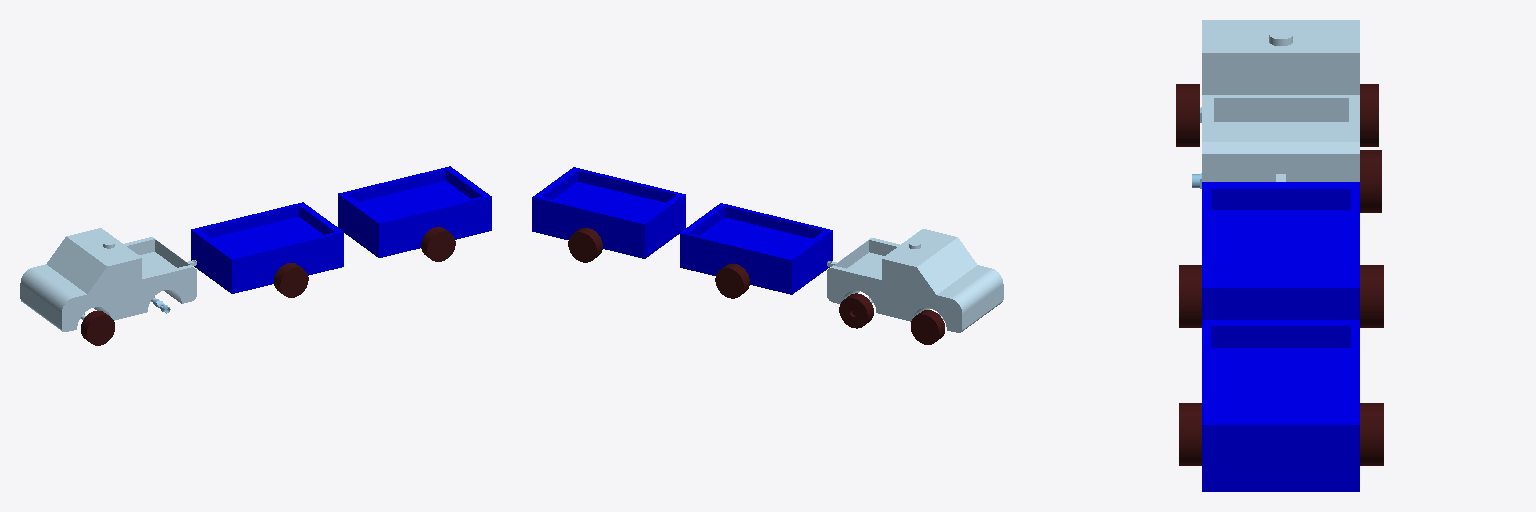
--- What the picture shows (computed from the rendered views, not written in the file) ---
The picture shows the robot from 3 angles, left to right: view 1: azimuth 30°, elevation 25°; view 2: azimuth 150°, elevation 25°; view 3: azimuth 270°, elevation 25°; orthographic projection.
Robot: my_robot — 12 links, 11 joints (2 revolute, 4 continuous, 5 fixed); root link car; default pose: every joint at zero.
Links seen in each view (by area): view 1: car, trailer_2_2, trailer_2, wheel_1; view 2: car, trailer_2_2, trailer_2, wheel_2_2, wheel_2; view 3: trailer_2_2, car, trailer_2, wheel_1, wheel_2_2, wheel_2.
Link boxes in pixels (x1,y1,x2,y2): car: [20, 228, 196, 331]; trailer_2_2: [338, 166, 491, 261]; trailer_2: [191, 202, 343, 297]; wheel_1: [81, 311, 114, 345]; car: [827, 229, 1003, 332]; trailer_2_2: [532, 167, 685, 262]; trailer_2: [680, 203, 832, 298]; wheel_2_2: [839, 293, 873, 328]; wheel_2: [911, 310, 944, 344]; trailer_2_2: [1179, 320, 1383, 491]; car: [1202, 20, 1359, 181]; trailer_2: [1179, 182, 1383, 327]; wheel_1: [1176, 84, 1199, 146]; wheel_2_2: [1360, 150, 1381, 212]; wheel_2: [1360, 84, 1378, 146].
Size in the robot's own frame: 3.06 by 0.6685 by 0.5055 metres.
18 mesh visuals loaded from 8 distinct referenced files (6 binary STL); not drawn: 6 (reference not matched to a file when rendering).

robot.urdf — my_robot:
<?xml version="1.0"?>
<!-- Generated using onshape-to-robot -->
<robot name="my_robot">
    <!-- Link car -->
    <ros2_control name="my_robot" type="system">
        <hardware>
            <plugin>mock_components/GenericSystem</plugin>
            <param name="calculate_dynamics">true</param>
            <!-- <plugin>ros2_control_demo_example_11/CarlikeBotSystemHardware</plugin>
            <param name="example_param_hw_start_duration_sec">0</param>
            <param name="example_param_hw_stop_duration_sec">3.0</param> -->
        </hardware>
        <joint name="wheel_1_turn">
            <command_interface name="position" />
            <state_interface name="position" />
        </joint>
        <joint name="wheel_3_rotate">
            <command_interface name="velocity" />
            <state_interface name="velocity" />
            <state_interface name="position" />
        </joint>
    </ros2_control>


    <link name="car">
        <inertial>
            <origin xyz="0.051002 0.170353 0.124678" rpy="0 0 0" />
            <mass value="272.473" />
            <inertia ixx="8.5094" ixy="-8.69938e-08" ixz="0.684742" iyy="18.5356" iyz="6.07751e-08"
                izz="22.0273" />
        </inertial>
        <!-- Part car -->
        <visual>
            <origin xyz="0.0955096 0.170353 0.07044" rpy="0 -0 0" />
            <geometry>
                <mesh filename="package://project1_description/urdf/assets/car.stl" />
            </geometry>
            <material name="car_material">
                <color rgba="0.768627 0.886275 0.952941 1" />
            </material>
        </visual>
        <collision>
            <origin xyz="0.0955096 0.170353 0.07044" rpy="0 -0 0" />
            <geometry>
                <mesh filename="package://project1_description/urdf/assets/car.stl" />
            </geometry>
        </collision>
    </link>
    
    <!-- Link assembly_1 -->
    <link name="assembly_1">
        <inertial>
            <origin xyz="3.32289e-08 -8.11315e-06 -0.0421529" rpy="0 0 0" />
            <mass value="0.290111" />
            <inertia ixx="0.000460233" ixy="3.7401e-14" ixz="-1.28315e-13" iyy="0.000478564"
                iyz="-3.62703e-07" izz="7.86407e-05" />
        </inertial>
        <!-- Part uc_2 -->
        <visual>
            <origin xyz="-2.22045e-16 -1.38778e-16 0.0172947" rpy="-1.5708 4.996e-16 2.5189e-18" />
            <geometry>
                <mesh filename="package://project1_description/urdf/assets/uc_2.stl" />
            </geometry>
            <material name="uc_2_material">
                <color rgba="0.615686 0.811765 0.929412 1" />
            </material>
        </visual>
        <collision>
            <origin xyz="-2.22045e-16 -1.38778e-16 0.0172947" rpy="-1.5708 4.996e-16 2.5189e-18" />
            <geometry>
                <mesh filename="package://project1_description/urdf/assets/uc_2.stl" />
            </geometry>
        </collision>
        <!-- Part uc_1 -->
        <visual>
            <origin xyz="0 0 0" rpy="-1.5708 2.29033e-62 0" />
            <geometry>
                <mesh filename="package://project1_description/urdf/assets/uc_1.stl" />
            </geometry>
            <material name="uc_1_material">
                <color rgba="0.615686 0.811765 0.929412 1" />
            </material>
        </visual>
        <collision>
            <origin xyz="0 0 0" rpy="-1.5708 2.29033e-62 0" />
            <geometry>
                <mesh filename="package://project1_description/urdf/assets/uc_1.stl" />
            </geometry>
        </collision>
    </link>
    <!-- Link wheel_1 -->
    <link name="wheel_1">
        <inertial>
            <origin xyz="0 1.38778e-17 -0.0136924" rpy="0 0 0" />
            <mass value="2.073" />
            <inertia ixx="0.00644579" ixy="0" ixz="8.02507e-36" iyy="0.00644579" iyz="0"
                izz="0.0109084" />
        </inertial>
        <!-- Part wheel_1 -->
        <visual>
            <origin xyz="0.25068 -0.109 0.2028" rpy="1.5708 -4.62429e-34 0" />
            <geometry>
                <mesh filename="package://project1_description/urdf/assets/wheel_1.stl" />
            </geometry>
            <material name="wheel_1_material">
                <color rgba="0.286275 0.113725 0.113725 1" />
            </material>
        </visual>
        <collision>
            <origin xyz="0.25068 -0.109 0.2028" rpy="1.5708 -4.62429e-34 0" />
            <geometry>
                <mesh filename="package://project1_description/urdf/assets/wheel_1.stl" />
            </geometry>
        </collision>
    </link>
    <!-- Joint from assembly_1 to wheel_1 -->
    <joint name="wheel_1_rotate" type="continuous">
        <origin xyz="-2.77556e-16 -2.39858e-05 -0.109279" rpy="-1.83584e-16 -4.996e-16 -3.14159" />
        <parent link="assembly_1" />
        <child link="wheel_1" />
        <axis xyz="0 0 -1" />
        <limit effort="10" velocity="10" />
        <mimic joint="wheel_3_rotate" multiplier="1.0" offset="0.0" />
    </joint>
    <!-- Joint from car to assembly_1 -->
    <joint name="wheel_1_turn" type="revolute">
        <origin xyz="-0.155171 -0.00744729 -0.03856" rpy="1.5708 3.0969e-31 3.14159" />
        <parent link="car" />
        <child link="assembly_1" />
        <axis xyz="0 1 0" />
        <limit effort="10" velocity="10" lower="-0.5" upper="0.5" />
    </joint>
    <!-- Link assembly_1_2 -->
    <link name="assembly_1_2">
        <inertial>
            <origin xyz="3.32289e-08 -1.58726e-05 -0.0421263" rpy="0 0 0" />
            <mass value="0.290111" />
            <inertia ixx="0.000460233" ixy="-3.7401e-14" ixz="1.28313e-13" iyy="0.000478564"
                iyz="-3.62703e-07" izz="7.86407e-05" />
        </inertial>
        <!-- Part uc_2_2 -->
        <visual>
            <origin xyz="0 -2.39858e-05 -0.101574" rpy="1.5708 -9.47567e-61 0" />
            <geometry>
                <mesh filename="package://project1_description/urdf/assets/uc_2.stl" />
            </geometry>
            <material name="uc_2_2_material">
                <color rgba="0.615686 0.811765 0.929412 1" />
            </material>
        </visual>
        <collision>
            <origin xyz="0 -2.39858e-05 -0.101574" rpy="1.5708 -9.47567e-61 0" />
            <geometry>
                <mesh filename="package://project1_description/urdf/assets/uc_2.stl" />
            </geometry>
        </collision>
        <!-- Part uc_1_2 -->
        <visual>
            <origin xyz="0 -2.39858e-05 -0.0842792" rpy="1.5708 -6.10623e-16 -2.5189e-18" />
            <geometry>
                <mesh filename="package://project1_description/urdf/assets/uc_1.stl" />
            </geometry>
            <material name="uc_1_2_material">
                <color rgba="0.615686 0.811765 0.929412 1" />
            </material>
        </visual>
        <collision>
            <origin xyz="0 -2.39858e-05 -0.0842792" rpy="1.5708 -6.10623e-16 -2.5189e-18" />
            <geometry>
                <mesh filename="package://project1_description/urdf/assets/uc_1.stl" />
            </geometry>
        </collision>
    </link>
    <!-- Link wheel_2 -->
    <link name="wheel_2">
        <inertial>
            <origin xyz="0 -1.38778e-17 -0.0136924" rpy="0 0 0" />
            <mass value="2.073" />
            <inertia ixx="0.00644579" ixy="0" ixz="4.24661e-36" iyy="0.00644579" iyz="0"
                izz="0.0109084" />
        </inertial>
        <!-- Part wheel_2 -->
        <visual>
            <origin xyz="0.25068 0.109 0.2028" rpy="-1.5708 -2.44702e-34 0" />
            <geometry>
                <mesh filename="package://project1_description/urdf/assets/wheel_2.stl" />
            </geometry>
            <material name="wheel_2_material">
                <color rgba="0.286275 0.113725 0.113725 1" />
            </material>
        </visual>
        <collision>
            <origin xyz="0.25068 0.109 0.2028" rpy="-1.5708 -2.44702e-34 0" />
            <geometry>
                <mesh filename="package://project1_description/urdf/assets/wheel_2.stl" />
            </geometry>
        </collision>
    </link>
    <!-- Joint from assembly_1_2 to wheel_2 -->
    <joint name="wheel_2_rotate" type="continuous">
        <origin xyz="0 -2.39858e-05 -0.0842792" rpy="9.71466e-17 6.10623e-16 3.14159" />
        <parent link="assembly_1_2" />
        <child link="wheel_2" />
        <axis xyz="0 0 1" />
        <limit effort="10" velocity="10" />
        <mimic joint="wheel_3_rotate" multiplier="1.0" offset="0.0" />
    </joint>
    <!-- Joint from car to assembly_1_2 -->
    <joint name="wheel_2_turn" type="revolute">
        <origin xyz="-0.155171 0.348153 -0.03856" rpy="-1.5708 2.16552e-30 -3.14159" />
        <parent link="car" />
        <child link="assembly_1_2" />
        <axis xyz="0 -1 0" />
        <limit effort="10" velocity="10" lower="-0.5" upper="0.5" />
        <mimic joint="wheel_1_turn" multiplier="1.0" offset="0.0" />
    </joint>
    <!-- Link assembly_1_3 -->
    <link name="assembly_1_3">
        <inertial>
            <origin xyz="3.32289e-08 -1.58726e-05 -0.0421263" rpy="0 0 0" />
            <mass value="0.290111" />
            <inertia ixx="0.000460233" ixy="-3.7401e-14" ixz="1.28313e-13" iyy="0.000478564"
                iyz="-3.62703e-07" izz="7.86407e-05" />
        </inertial>
        <!-- Part uc_2_3 -->
        <visual>
            <origin xyz="0 -2.39858e-05 -0.101574" rpy="1.5708 -9.47567e-61 0" />
            <geometry>
                <mesh filename="package://project1_description/urdf/assets/uc_2.stl" />
            </geometry>
            <material name="uc_2_3_material">
                <color rgba="0.615686 0.811765 0.929412 1" />
            </material>
        </visual>
        <collision>
            <origin xyz="0 -2.39858e-05 -0.101574" rpy="1.5708 -9.47567e-61 0" />
            <geometry>
                <mesh filename="package://project1_description/urdf/assets/uc_2.stl" />
            </geometry>
        </collision>
        <!-- Part uc_1_3 -->
        <visual>
            <origin xyz="0 -2.39858e-05 -0.0842792" rpy="1.5708 -6.10623e-16 -2.5189e-18" />
            <geometry>
                <mesh filename="package://project1_description/urdf/assets/uc_1.stl" />
            </geometry>
            <material name="uc_1_3_material">
                <color rgba="0.615686 0.811765 0.929412 1" />
            </material>
        </visual>
        <collision>
            <origin xyz="0 -2.39858e-05 -0.0842792" rpy="1.5708 -6.10623e-16 -2.5189e-18" />
            <geometry>
                <mesh filename="package://project1_description/urdf/assets/uc_1.stl" />
            </geometry>
        </collision>
    </link>
    <!-- Link wheel_2_2 -->
    <link name="wheel_2_2">
        <inertial>
            <origin xyz="5.55112e-17 4.16334e-17 0.000592428" rpy="0 0 0" />
            <mass value="2.073" />
            <inertia ixx="0.00644579" ixy="0" ixz="-2.67173e-36" iyy="0.00644579" iyz="0"
                izz="0.0109084" />
        </inertial>
        <!-- Part wheel_2_2 -->
        <visual>
            <origin xyz="0.25068 -0.109 -0.2159" rpy="1.5708 1.53953e-34 0" />
            <geometry>
                <mesh filename="package://project1_description/urdf/assets/wheel_2.stl" />
            </geometry>
            <material name="wheel_2_2_material">
                <color rgba="0.286275 0.113725 0.113725 1" />
            </material>
        </visual>
        <collision>
            <origin xyz="0.25068 -0.109 -0.2159" rpy="1.5708 1.53953e-34 0" />
            <geometry>
                <mesh filename="package://project1_description/urdf/assets/wheel_2.stl" />
            </geometry>
        </collision>
    </link>
    <!-- Joint from assembly_1_3 to wheel_2_2 -->
    <joint name="wheel_3_rotate" type="continuous">
        <origin xyz="0 -2.39858e-05 -0.109279" rpy="-6.11193e-17 6.10623e-16 3.14159" />
        <parent link="assembly_1_3" />
        <child link="wheel_2_2" />
        <axis xyz="0 0 1" />
        <limit effort="10" velocity="10" />
    </joint>
    <!-- Joint from car to assembly_1_3 -->
    <joint name="wheel_3_turn" type="fixed">
        <origin xyz="0.34619 0.348153 -0.03856" rpy="-1.5708 2.16552e-30 -3.14159" />
        <parent link="car" />
        <child link="assembly_1_3" />
        <axis xyz="0 1 0" />
        <limit effort="10" velocity="10" />
    </joint>
    <!-- Link assembly_1_4 -->
    <link name="assembly_1_4">
        <inertial>
            <origin xyz="3.32289e-08 -8.11315e-06 -0.0421529" rpy="0 0 0" />
            <mass value="0.290111" />
            <inertia ixx="0.000460233" ixy="3.7401e-14" ixz="-1.28313e-13" iyy="0.000478564"
                iyz="-3.62703e-07" izz="7.86407e-05" />
        </inertial>
        <!-- Part uc_2_4 -->
        <visual>
            <origin xyz="5.55112e-17 0 0.0172947" rpy="-1.5708 6.66134e-16 2.5189e-18" />
            <geometry>
                <mesh filename="package://project1_description/urdf/assets/uc_2.stl" />
            </geometry>
            <material name="uc_2_4_material">
                <color rgba="0.615686 0.811765 0.929412 1" />
            </material>
        </visual>
        <collision>
            <origin xyz="5.55112e-17 0 0.0172947" rpy="-1.5708 6.66134e-16 2.5189e-18" />
            <geometry>
                <mesh filename="package://project1_description/urdf/assets/uc_2.stl" />
            </geometry>
        </collision>
        <!-- Part uc_1_4 -->
        <visual>
            <origin xyz="0 0 0" rpy="-1.5708 2.29033e-62 0" />
            <geometry>
                <mesh filename="package://project1_description/urdf/assets/uc_1.stl" />
            </geometry>
            <material name="uc_1_4_material">
                <color rgba="0.615686 0.811765 0.929412 1" />
            </material>
        </visual>
        <collision>
            <origin xyz="0 0 0" rpy="-1.5708 2.29033e-62 0" />
            <geometry>
                <mesh filename="package://project1_description/urdf/assets/uc_1.stl" />
            </geometry>
        </collision>
    </link>
    <!-- Link wheel -->
    <link name="wheel">
        <inertial>
            <origin xyz="5.55112e-17 -1.38778e-17 0.000592428" rpy="0 0 0" />
            <mass value="2.073" />
            <inertia ixx="0.00644579" ixy="1.24353e-67" ixz="8.02507e-36" iyy="0.00644579"
                iyz="4.27813e-34" izz="0.0109084" />
        </inertial>
        <!-- Part wheel -->
        <visual>
            <origin xyz="-0.25068 0.109 -0.2159" rpy="-1.5708 -4.62429e-34 0" />
            <geometry>
                <mesh filename="package://project1_description/urdf/assets/wheel.stl" />
            </geometry>
            <material name="wheel_material">
                <color rgba="0.266667 0.0941176 0.0941176 1" />
            </material>
        </visual>
        <collision>
            <origin xyz="-0.25068 0.109 -0.2159" rpy="-1.5708 -4.62429e-34 0" />
            <geometry>
                <mesh filename="package://project1_description/urdf/assets/wheel.stl" />
            </geometry>
        </collision>
    </link>
    <!-- Joint from assembly_1_4 to wheel -->
    <joint name="wheel_4_rotate" type="continuous">
        <origin xyz="0 -2.39858e-05 -0.109279" rpy="-1.83584e-16 -6.66134e-16 -3.14159" />
        <parent link="assembly_1_4" />
        <child link="wheel" />
        <axis xyz="0 0 -1" />
        <limit effort="10" velocity="10" />
        <mimic joint="wheel_3_rotate" multiplier="1.0" offset="0.0" />
    </joint>
    <!-- Joint from car to assembly_1_4 -->
    <joint name="wheel_4_turn" type="fixed">
        <origin xyz="0.34619 -0.00744729 -0.03856" rpy="1.5708 3.0969e-31 3.14159" />
        <parent link="car" />
        <child link="assembly_1_4" />
        <axis xyz="0 1 0" />
        <limit effort="10" velocity="10" />
    </joint>
    <!-- Link hook -->
    <link name="hook">
        <inertial>
            <origin xyz="1.74204e-13 -1.73472e-18 -0.0587536" rpy="0 0 0" />
            <mass value="0.714787" />
            <inertia ixx="0.000893832" ixy="0" ixz="1.25716e-15" iyy="0.000917062" iyz="0"
                izz="9.76867e-05" />
        </inertial>
        <!-- Part hook -->
        <visual>
            <origin xyz="-1.77636e-15 0.0125 0.4825" rpy="1.5708 1.5708 0" />
            <geometry>
                <mesh filename="package://project1_description/urdf/assets/hook.stl" />
            </geometry>
            <material name="hook_material">
                <color rgba="0.647059 0.647059 0.647059 1" />
            </material>
        </visual>
        <collision>
            <origin xyz="-1.77636e-15 0.0125 0.4825" rpy="1.5708 1.5708 0" />
            <geometry>
                <mesh filename="package://project1_description/urdf/assets/hook.stl" />
            </geometry>
        </collision>
    </link>
    <!-- Link trailer_2 -->
    <link name="trailer_2">
        <inertial>
            <origin xyz="-0.523312 -6.52477e-13 -0.0407031" rpy="0 0 0" />
            <mass value="198.322" />
            <inertia ixx="5.44973" ixy="-9.53232e-14" ixz="0.00819777" iyy="11.9939"
                iyz="-5.47601e-15" izz="16.1639" />
        </inertial>
        <!-- Part trailer -->
        <visual>
            <origin xyz="-0.123312 -0.254 -0.055" rpy="4.05925e-16 3.9443e-31 3.14159" />
            <geometry>
                <mesh filename="package://project1_description/urdf/assets/trailer.stl" />
            </geometry>
            <material name="trailer_material">
                <color rgba="0 0 1 1" />
            </material>
        </visual>
        <collision>
            <origin xyz="-0.123312 -0.254 -0.055" rpy="4.05925e-16 3.9443e-31 3.14159" />
            <geometry>
                <mesh filename="package://project1_description/urdf/assets/trailer.stl" />
            </geometry>
        </collision>
        <!-- Part wheel_2_3 -->
        <visual>
            <origin xyz="-0.773992 0.0762 -0.222181" rpy="-3.14159 -3.8719e-15 3.14159" />
            <geometry>
                <mesh filename="package://project1_description/urdf/assets/wheel_2.stl" />
            </geometry>
            <material name="wheel_2_3_material">
                <color rgba="0.286275 0.113725 0.113725 1" />
            </material>
        </visual>
        <collision>
            <origin xyz="-0.773992 0.0762 -0.222181" rpy="-3.14159 -3.8719e-15 3.14159" />
            <geometry>
                <mesh filename="package://project1_description/urdf/assets/wheel_2.stl" />
            </geometry>
        </collision>
        <!-- Part hook_2 -->
        <visual>
            <origin xyz="-0.605812 -6.54199e-13 -0.025" rpy="0 -0 1.82017e-32" />
            <geometry>
                <mesh filename="package://project1_description/urdf/assets/hook.stl" />
            </geometry>
            <material name="hook_2_material">
                <color rgba="0.647059 0.647059 0.647059 1" />
            </material>
        </visual>
        <collision>
            <origin xyz="-0.605812 -6.54199e-13 -0.025" rpy="0 -0 1.82017e-32" />
            <geometry>
                <mesh filename="package://project1_description/urdf/assets/hook.stl" />
            </geometry>
        </collision>
        <!-- Part wheel_2_4 -->
        <visual>
            <origin xyz="-0.773992 -0.0762 -0.00418073" rpy="4.05925e-16 -3.07192e-15 3.14159" />
            <geometry>
                <mesh filename="package://project1_description/urdf/assets/wheel_2.stl" />
            </geometry>
            <material name="wheel_2_4_material">
                <color rgba="0.286275 0.113725 0.113725 1" />
            </material>
        </visual>
        <collision>
            <origin xyz="-0.773992 -0.0762 -0.00418073" rpy="4.05925e-16 -3.07192e-15 3.14159" />
            <geometry>
                <mesh filename="package://project1_description/urdf/assets/wheel_2.stl" />
            </geometry>
        </collision>
        <!-- Part hook_3 -->
        <visual>
            <origin xyz="-0.440812 -6.5084e-13 -3.60822e-16" rpy="4.05925e-16 -1.18329e-30 3.14159" />
            <geometry>
                <mesh filename="package://project1_description/urdf/assets/hook.stl" />
            </geometry>
            <material name="hook_3_material">
                <color rgba="0.647059 0.647059 0.647059 1" />
            </material>
        </visual>
        <collision>
            <origin xyz="-0.440812 -6.5084e-13 -3.60822e-16" rpy="4.05925e-16 -1.18329e-30 3.14159" />
            <geometry>
                <mesh filename="package://project1_description/urdf/assets/hook.stl" />
            </geometry>
        </collision>
    </link>
    <!-- Link trailer_2_2 -->
    <link name="trailer_2_2">
        <inertial>
            <origin xyz="-0.523312 -6.52646e-13 -0.0407031" rpy="0 0 0" />
            <mass value="198.322" />
            <inertia ixx="5.44973" ixy="-9.06104e-14" ixz="0.00819777" iyy="11.9939"
                iyz="4.42669e-15" izz="16.1639" />
        </inertial>
        <!-- Part trailer_2 -->
        <visual>
            <origin xyz="-0.123312 -0.254 -0.055" rpy="-2.65413e-16 1.19997e-15 3.14159" />
            <geometry>
                <mesh filename="package://project1_description/urdf/assets/trailer.stl" />
            </geometry>
            <material name="trailer_2_material">
                <color rgba="0 0 1 1" />
            </material>
        </visual>
        <collision>
            <origin xyz="-0.123312 -0.254 -0.055" rpy="-2.65413e-16 1.19997e-15 3.14159" />
            <geometry>
                <mesh filename="package://project1_description/urdf/assets/trailer.stl" />
            </geometry>
        </collision>
        <!-- Part wheel_2_5 -->
        <visual>
            <origin xyz="-0.773992 0.0762 -0.222181" rpy="3.14159 -2.67193e-15 3.14159" />
            <geometry>
                <mesh filename="package://project1_description/urdf/assets/wheel_2.stl" />
            </geometry>
            <material name="wheel_2_5_material">
                <color rgba="0.286275 0.113725 0.113725 1" />
            </material>
        </visual>
        <collision>
            <origin xyz="-0.773992 0.0762 -0.222181" rpy="3.14159 -2.67193e-15 3.14159" />
            <geometry>
                <mesh filename="package://project1_description/urdf/assets/wheel_2.stl" />
            </geometry>
        </collision>
        <!-- Part hook_4 -->
        <visual>
            <origin xyz="-0.605812 -6.54171e-13 -0.025" rpy="0 -0 -1.72311e-31" />
            <geometry>
                <mesh filename="package://project1_description/urdf/assets/hook.stl" />
            </geometry>
            <material name="hook_4_material">
                <color rgba="0.647059 0.647059 0.647059 1" />
            </material>
        </visual>
        <collision>
            <origin xyz="-0.605812 -6.54171e-13 -0.025" rpy="0 -0 -1.72311e-31" />
            <geometry>
                <mesh filename="package://project1_description/urdf/assets/hook.stl" />
            </geometry>
        </collision>
        <!-- Part wheel_2_6 -->
        <visual>
            <origin xyz="-0.773992 -0.0762 -0.00418073" rpy="-2.65413e-16 -1.87196e-15 3.14159" />
            <geometry>
                <mesh filename="package://project1_description/urdf/assets/wheel_2.stl" />
            </geometry>
            <material name="wheel_2_6_material">
                <color rgba="0.286275 0.113725 0.113725 1" />
            </material>
        </visual>
        <collision>
            <origin xyz="-0.773992 -0.0762 -0.00418073" rpy="-2.65413e-16 -1.87196e-15 3.14159" />
            <geometry>
                <mesh filename="package://project1_description/urdf/assets/wheel_2.stl" />
            </geometry>
        </collision>
        <!-- Part hook_5 -->
        <visual>
            <origin xyz="-0.440812 -6.51035e-13 -3.88578e-16"
                rpy="-2.65413e-16 1.19997e-15 -3.14159" />
            <geometry>
                <mesh filename="package://project1_description/urdf/assets/hook.stl" />
            </geometry>
            <material name="hook_5_material">
                <color rgba="0.647059 0.647059 0.647059 1" />
            </material>
        </visual>
        <collision>
            <origin xyz="-0.440812 -6.51035e-13 -3.88578e-16"
                rpy="-2.65413e-16 1.19997e-15 -3.14159" />
            <geometry>
                <mesh filename="package://project1_description/urdf/assets/hook.stl" />
            </geometry>
        </collision>
    </link>
    <!-- Joint from trailer_2 to trailer_2_2 -->
    <joint name="hook_revolute_2" type="fixed">
        <origin xyz="-1.04662 -1.30496e-12 -1.3739e-15" rpy="-6.71338e-16 1.19997e-15 -6.38533e-16" />
        <parent link="trailer_2" />
        <child link="trailer_2_2" />
        <axis xyz="0 0 1" />
        <limit effort="10" velocity="10" lower="-0.5" upper="0.5" />
    </joint>
    <!-- Joint from hook to trailer_2 -->
    <joint name="hook_revolute_1" type="fixed">
        <origin xyz="6.54532e-13 0.0125 -0.123312" rpy="1.5708 -1.5708 0" />
        <parent link="hook" />
        <child link="trailer_2" />
        <axis xyz="0 0 1" />
        <limit effort="10" velocity="10" lower="-0.5" upper="0.5" />
    </joint>
    <!-- Joint from car to hook -->
    <joint name="hook_1" type="fixed">
        <origin xyz="0.57801 0.170353 0.0873751" rpy="-1.5708 -0 1.5708" />
        <parent link="car" />
        <child link="hook" />
        <axis xyz="0 0 1" />
        <limit effort="10" velocity="10" />
    </joint>
</robot>
